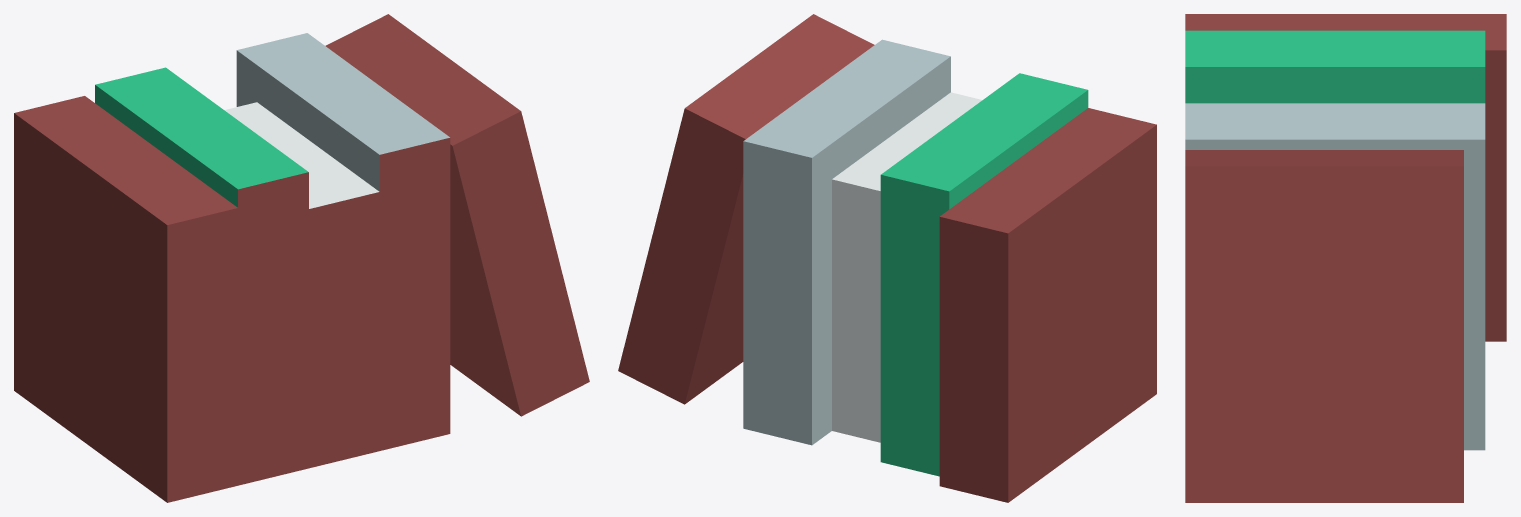
Rendered from books.obj.
3 views of the same model, side by side, from view 1: azimuth 30°, elevation 25°; view 2: azimuth 150°, elevation 25°; view 3: azimuth 270°, elevation 25° (orthographic). The views are drawn at different scales.
Parts seen in each view (by area): view 1: books; view 2: books; view 3: books.
Part boxes in pixels (x1,y1,x2,y2): books: (14, 14, 589, 502); books: (618, 14, 1156, 502); books: (1185, 14, 1506, 502).
Size of the model in its own units: 0.1504 by 0.1039 by 0.0945.
